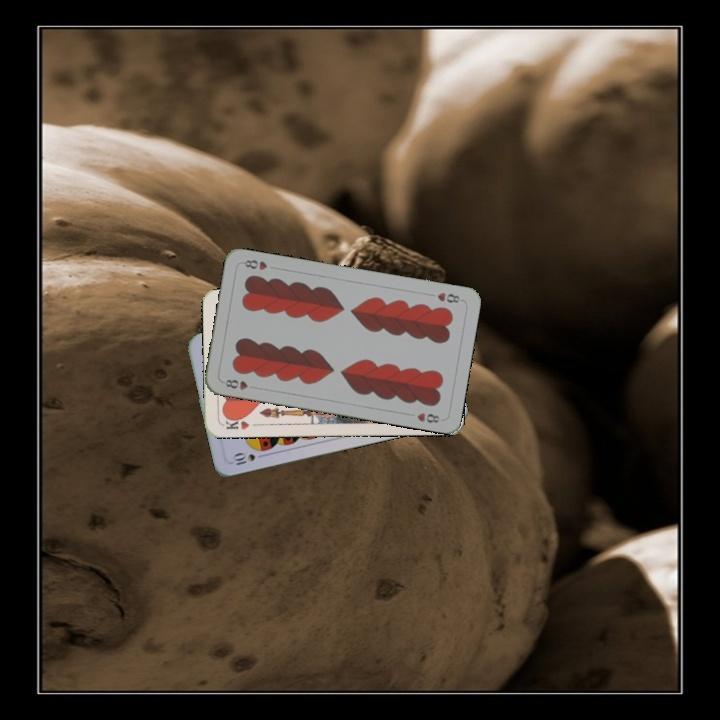H8: (221, 375, 259, 392), (433, 288, 465, 306)
HK: (221, 413, 251, 432)
S10: (228, 449, 258, 468)
